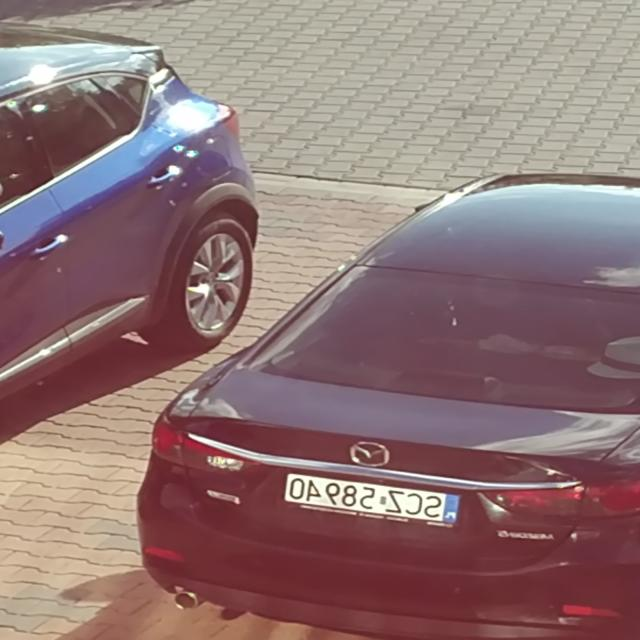pl_license_plate: (285, 473, 460, 522)
